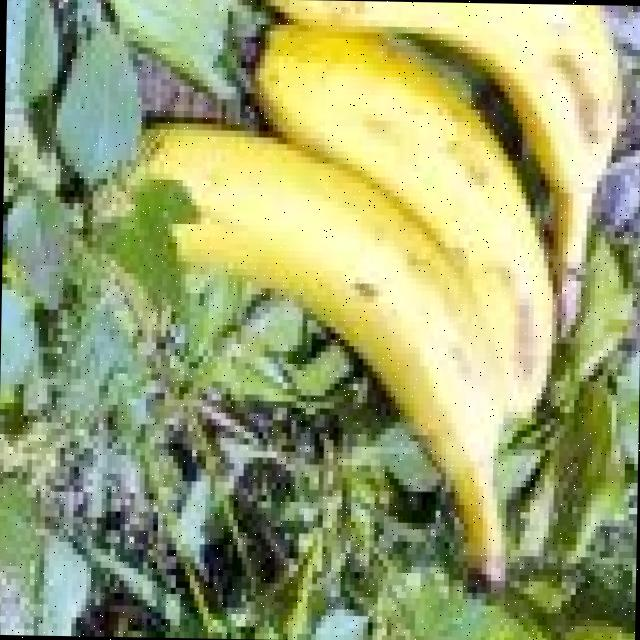Good_Banana-2-3 days: (143, 0, 620, 587)
